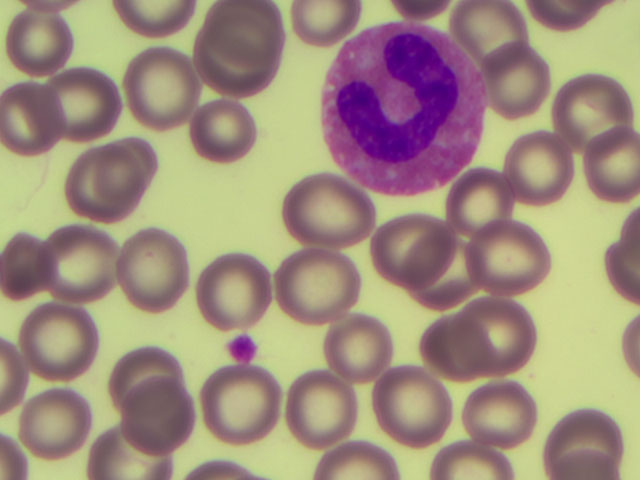Platelets: (231, 332, 257, 365)
RBC: (119, 222, 208, 312), (473, 221, 558, 289), (454, 299, 529, 376), (67, 145, 140, 222), (280, 251, 357, 323), (381, 367, 449, 448), (372, 221, 454, 287), (24, 305, 95, 380), (405, 237, 480, 307), (130, 52, 196, 127), (205, 375, 281, 440), (199, 259, 269, 328), (559, 75, 628, 145), (53, 69, 120, 138), (288, 191, 366, 250), (115, 352, 186, 416), (51, 232, 121, 295), (24, 390, 87, 459), (297, 376, 357, 448), (505, 137, 578, 194), (2, 86, 60, 156), (470, 384, 536, 443), (121, 394, 189, 451), (551, 412, 621, 467), (8, 11, 70, 72), (494, 53, 556, 113), (332, 314, 390, 378), (195, 102, 257, 159), (94, 436, 172, 480), (419, 310, 473, 372), (457, 172, 514, 229), (454, 2, 538, 39), (1, 236, 51, 296), (319, 443, 397, 480), (438, 443, 515, 480), (611, 213, 640, 302), (116, 1, 192, 33), (557, 445, 619, 480), (292, 1, 357, 33), (1, 337, 24, 410), (176, 462, 265, 480), (622, 313, 640, 372), (1, 439, 22, 480), (19, 1, 81, 12)
WBC: (322, 31, 478, 171)
